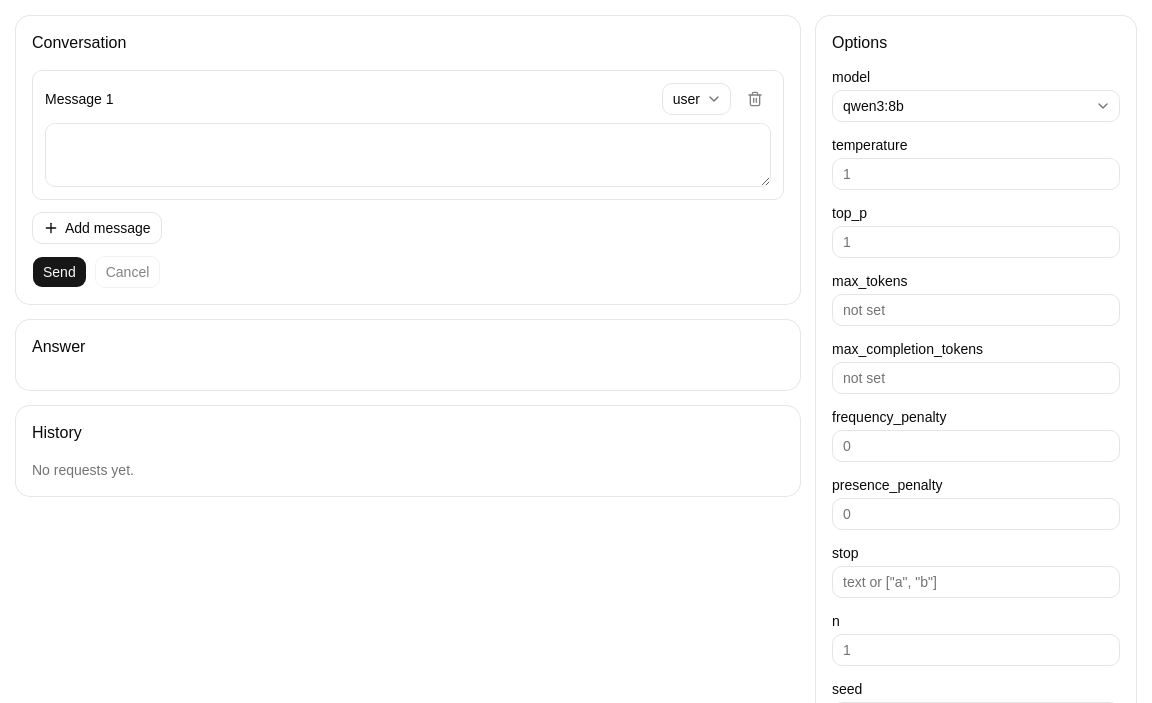
Scenario: untouched options are not sent, a changed temperature is
The image size is (1152, 703).
Check: the dropdown named "model" shows "qwen3:8b", box 832,90 -> 1120,122
Type "Hello" into the text box labelled "Message 1". click: (408, 155)
box: 45,123 -> 771,187
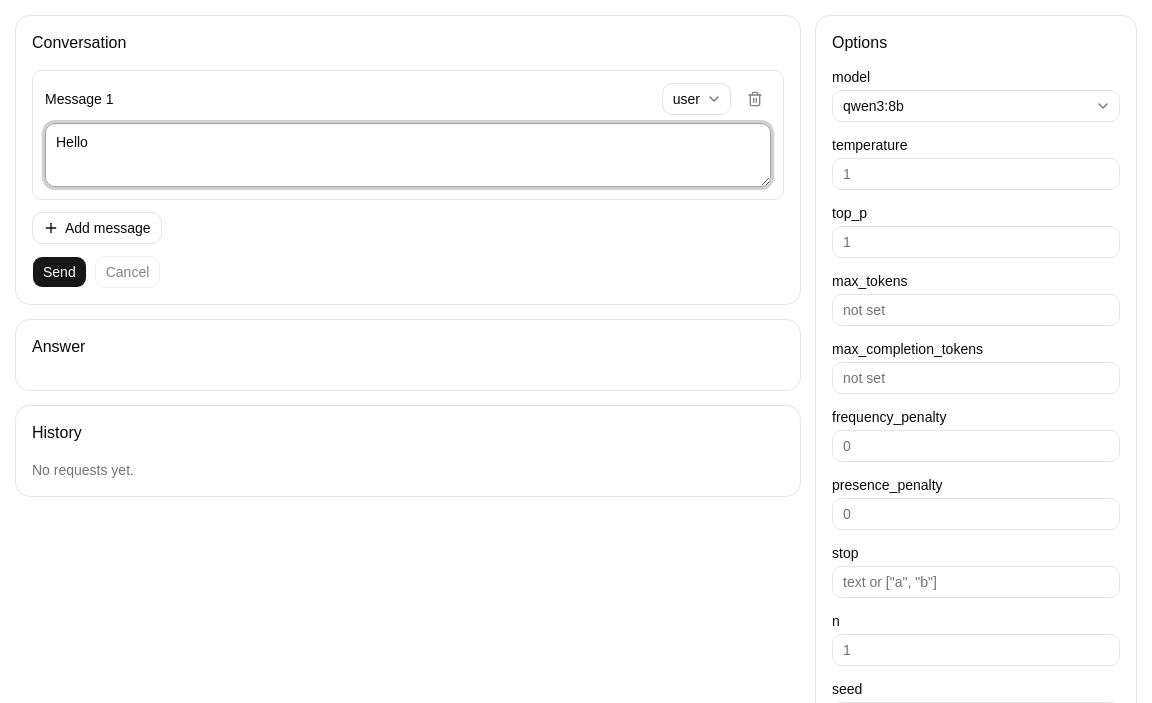
Type "0.2" into the field labelled "temperature". click: (976, 174)
box: 832,158 -> 1120,190
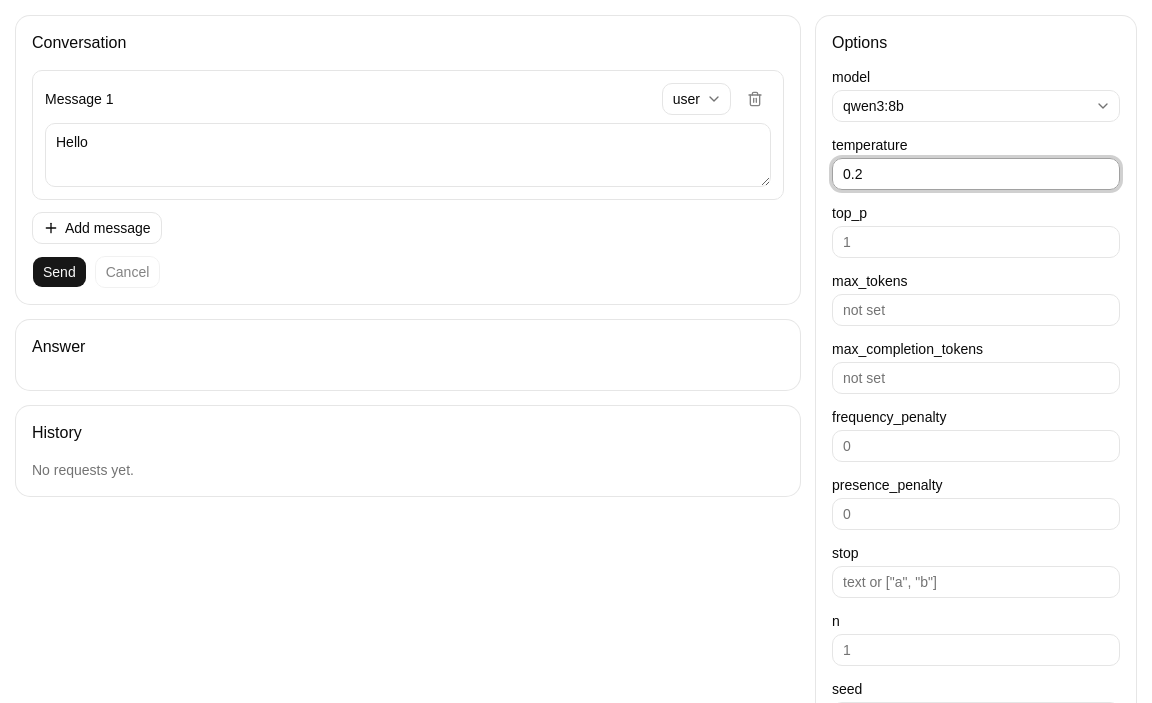
Click the button "Send". click: (59, 272)
box: 32,256 -> 87,288
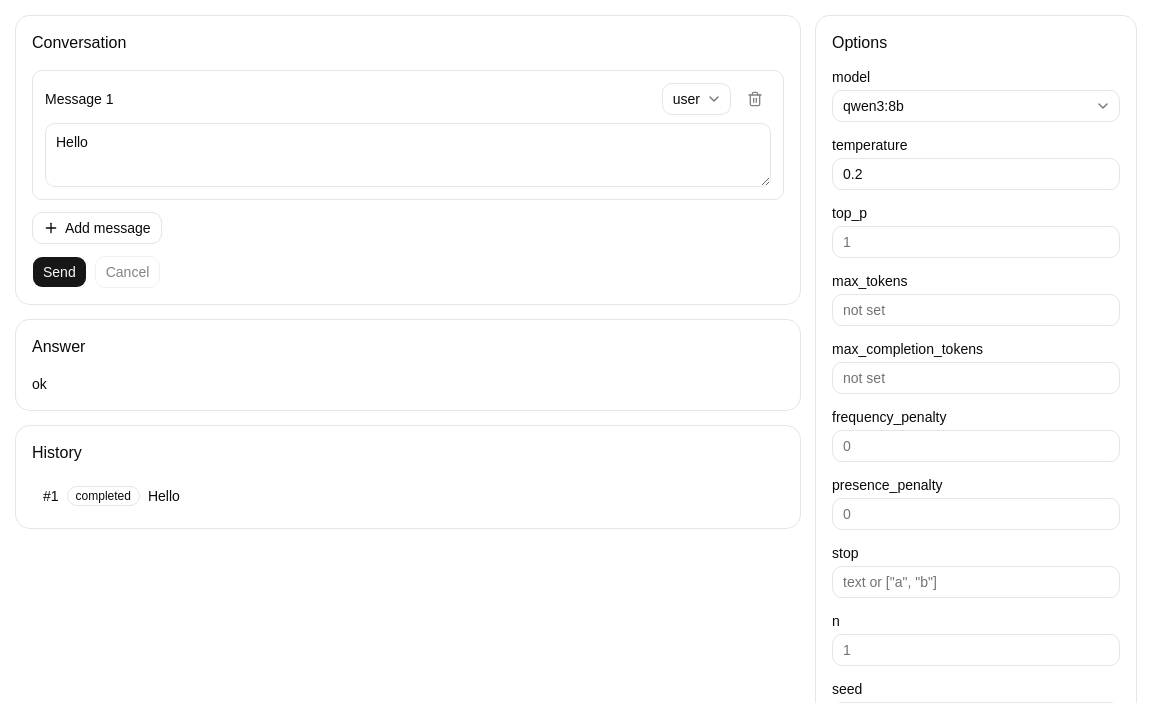
Check: the text "ok" is shown, box 32,376 -> 47,392
